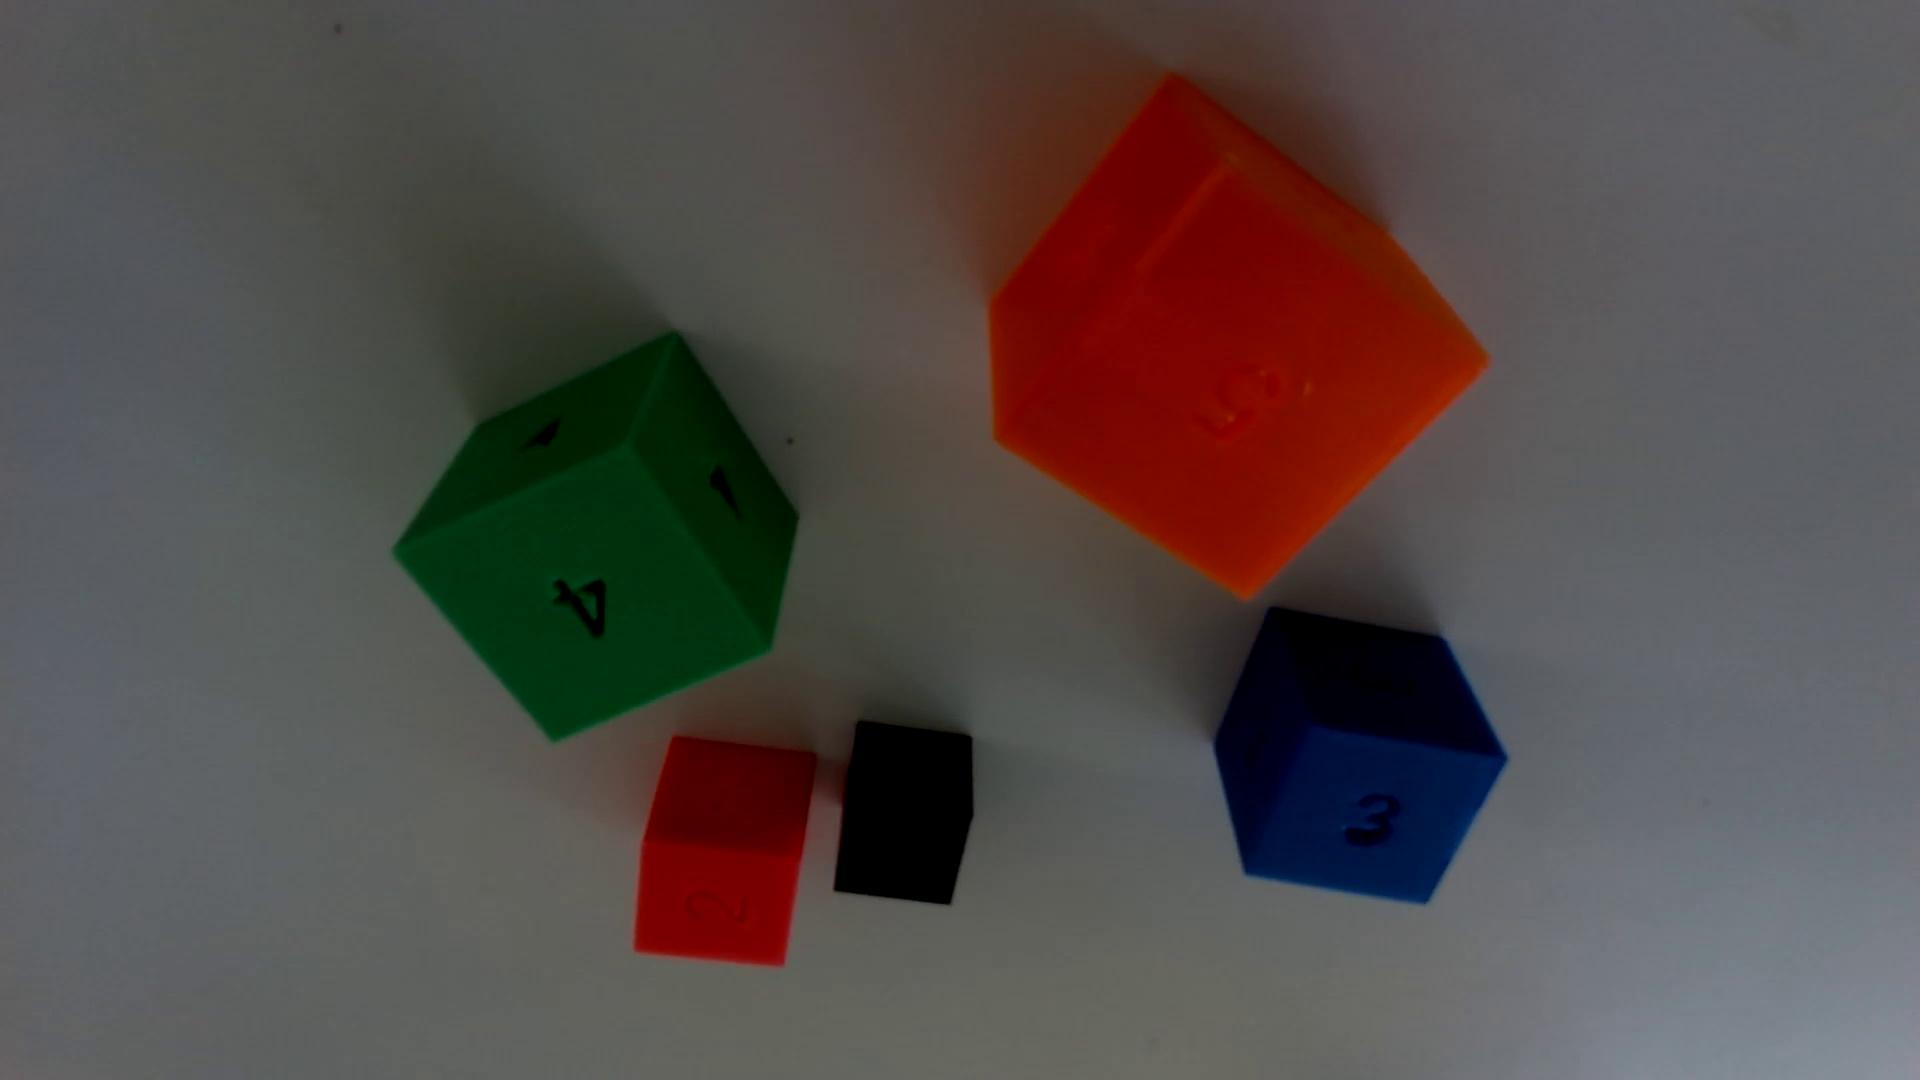black: (835, 721, 975, 905)
blue: (1215, 607, 1507, 902)
green: (396, 334, 798, 738)
orange: (989, 76, 1487, 596)
red: (634, 735, 815, 965)
